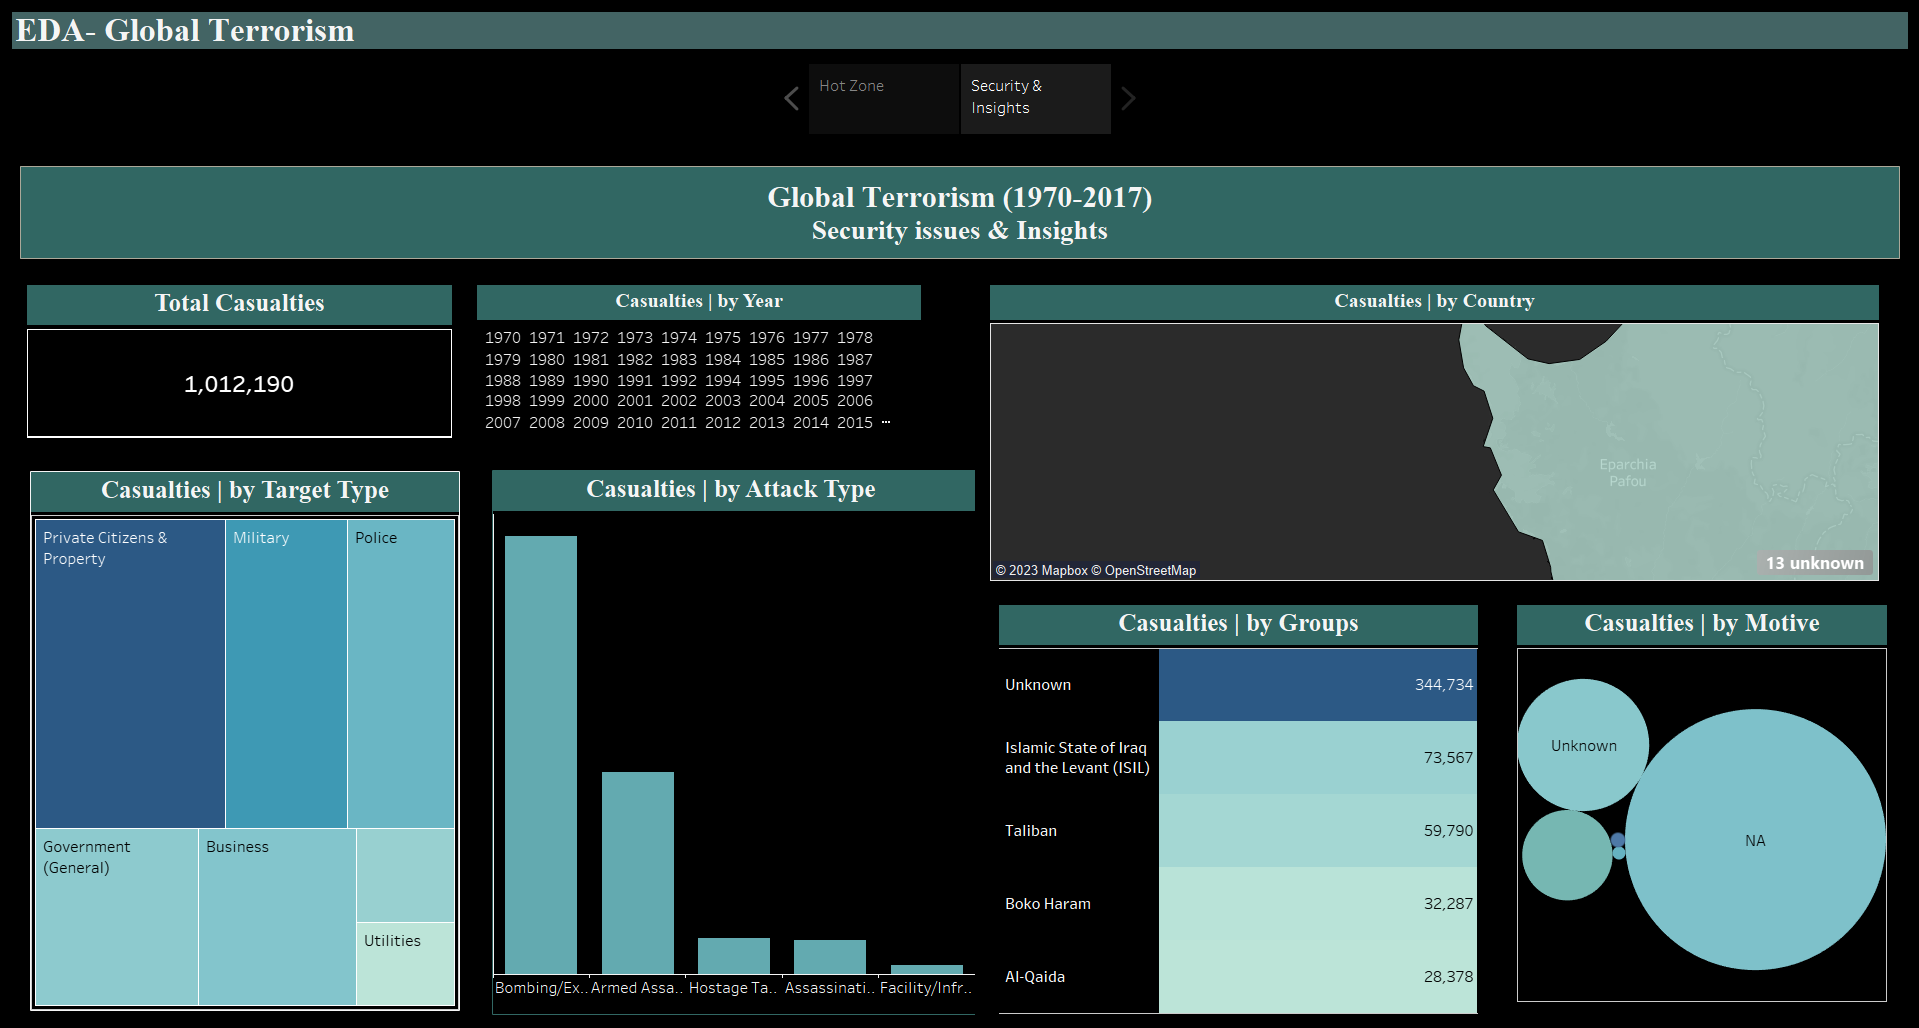

This screenshot's page, from the dashboard's own definition file:
{"tool":"tableau","page":{"name":"Global Terrorism - Security and insights","canvas":[1000,1000],"units":"permille","ordinal":1},"visuals":[{"type":"title","box":[4.2,7.7,991.7,96.8]},{"type":"worksheet","title":"Sheet 4 (2)","mark":"Automatic","box":[245.6,147.5,234.2,176.5]},{"type":"worksheet","title":"Sheet 5","mark":"Automatic","box":[9.7,148.7,223.9,174.2]},{"type":"worksheet","title":"Sheet 4 (3)","mark":"Automatic","box":[516,148.7,467.1,335.7]},{"type":"worksheet","title":"Sheet 8","mark":"Automatic","rows":["Casualties"],"cols":["AttackType"],"box":[254.1,358.9,254.1,619.1]},{"type":"worksheet","title":"Sheet 8 (2)","mark":"Automatic","box":[11.5,360.1,225.7,613.2]},{"type":"worksheet","title":"Sheet 8 (4)","mark":"Square","rows":["Group"],"box":[520.2,511,252.9,466.9]},{"type":"worksheet","title":"Sheet 8 (5)","mark":"Circle","box":[792.2,511,195.2,453]}]}

Visuals, with their boxes on the dashboard's canvas, which has no fixed pixel size, in thousandths of its width and height (x1, y1, x2, y2). These are canvas units, not pixel positions in the 1919x1028 screenshot, which may show the page scaled, cropped or inside an application window:
title: [4,8,996,104]
"Sheet 4 (2)" worksheet: [246,148,480,324]
"Sheet 5" worksheet: [10,149,234,323]
"Sheet 4 (3)" worksheet: [516,149,983,484]
"Sheet 8" worksheet: [254,359,508,978]
"Sheet 8 (2)" worksheet: [12,360,237,973]
"Sheet 8 (4)" worksheet (Square marks): [520,511,773,978]
"Sheet 8 (5)" worksheet (Circle marks): [792,511,987,964]
